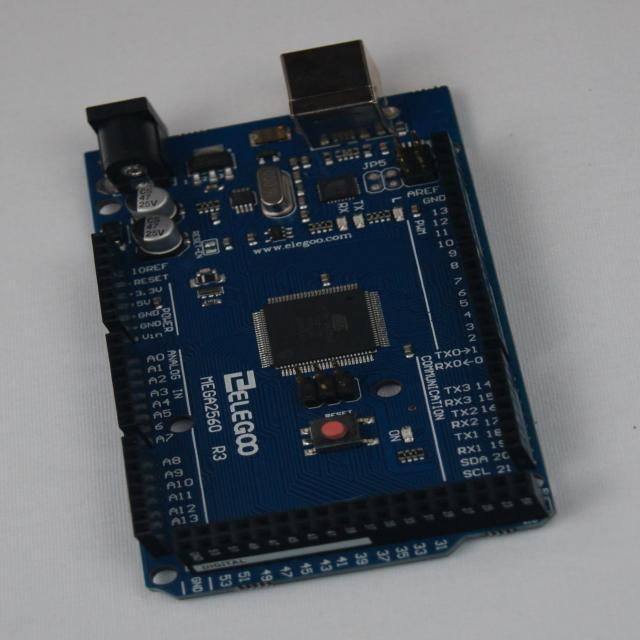Arduino Mega 2560 -Blue-: (87, 42, 554, 595)
